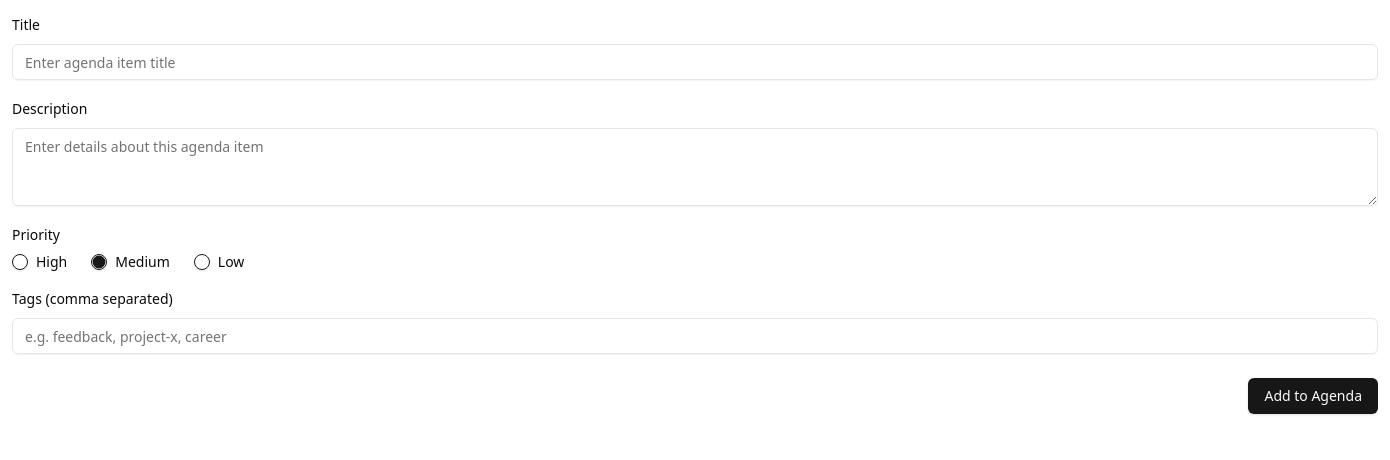
Test: AgendaItemForm › clears validation errors when field is edited
Trigger validation error
Step 1. Click the button "Add to Agenda" → (1313, 396), box [1248,378,1378,414]
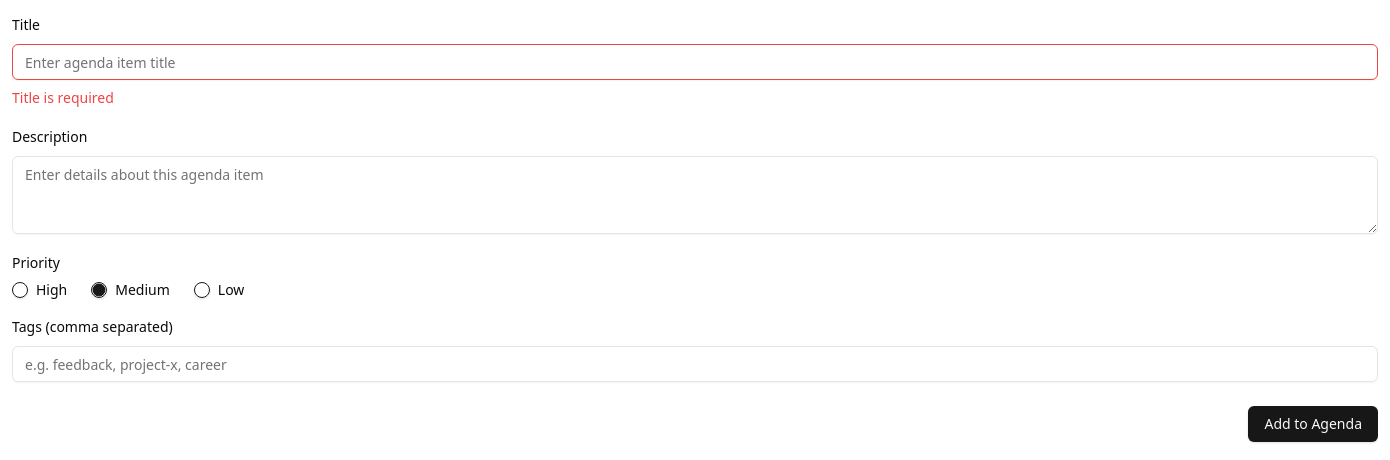
Check: the text "Title is required" is shown, box [12,88,114,107]
Edit the field to clear error
Step 2. Type "New Title" into the field labelled "Title" → (695, 62), box [12,44,1378,80]
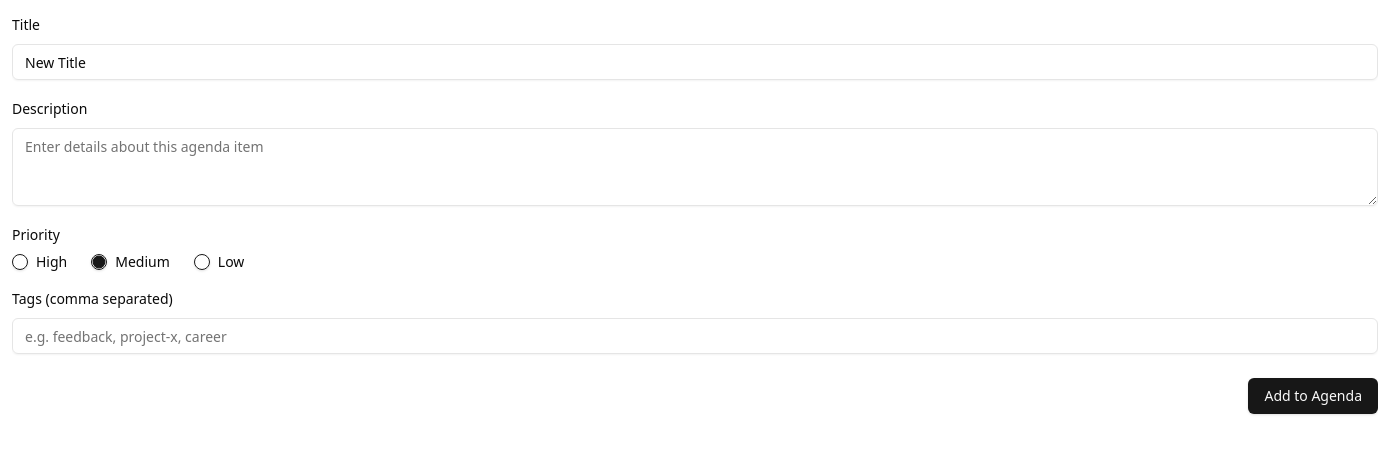
Check: the text "Title is required" is gone
